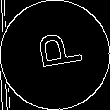P_W: (27, 32, 83, 78)
